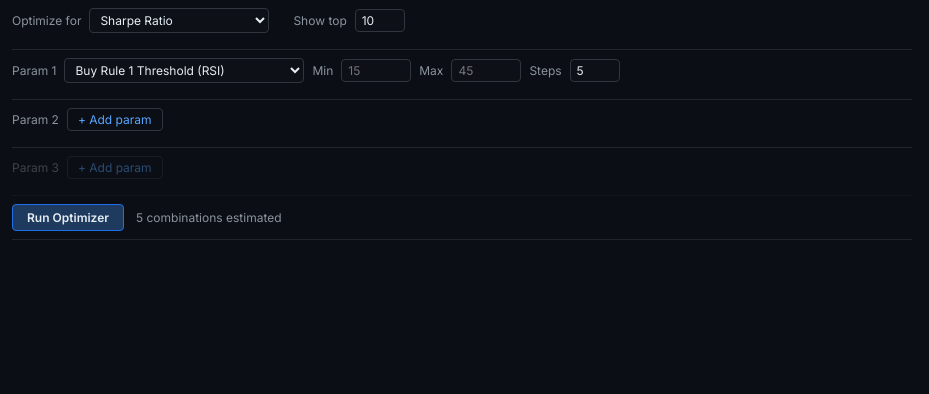
Scenario: OptimizerPanel — 2-param Sharpe heatmap (F236) › does NOT render heatmap for 1-param sweep
Click the button "Run Optimizer" at x=68, y=218, box [12, 204, 124, 231]
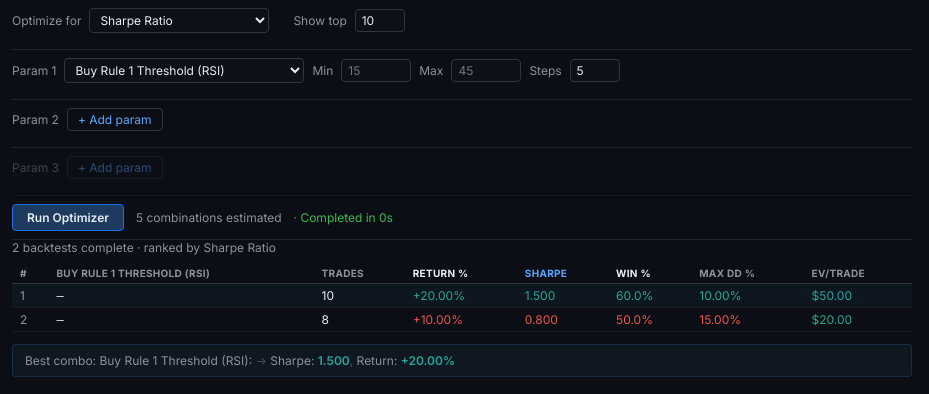
Check: the table is shown, box [12, 263, 912, 332]
